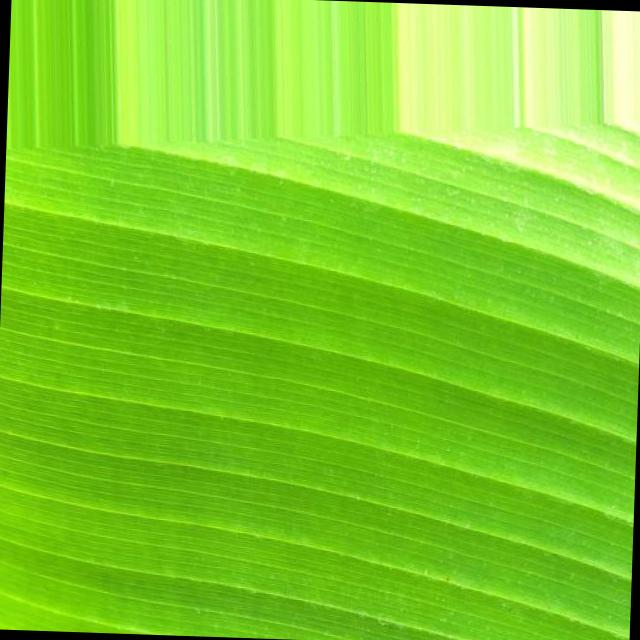Banana_Healthy: (140, 180, 590, 588)
